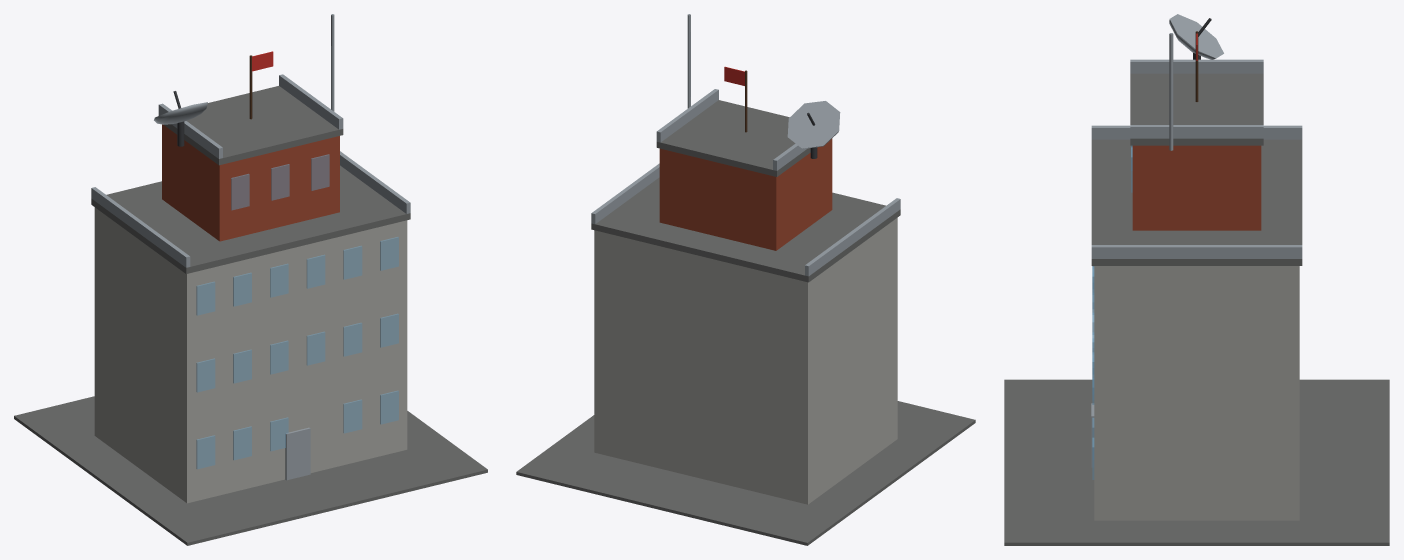
The model's file is bld_special_command_center_a06_lod1.glb.
The picture shows the model from 3 angles, left to right: view 1: azimuth 30°, elevation 25°; view 2: azimuth 150°, elevation 25°; view 3: azimuth 270°, elevation 25°; orthographic projection. The views are drawn at different scales.
Parts seen in each view (by area): view 1: body, antenna; view 2: body, antenna; view 3: body, antenna.
Boxes of the visible parts, left/top/right/bottom form: body: left=14, top=14, right=487, bottom=545; antenna: left=154, top=91, right=207, bottom=146; body: left=516, top=14, right=975, bottom=545; antenna: left=787, top=101, right=840, bottom=158; body: left=1004, top=31, right=1389, bottom=545; antenna: left=1169, top=14, right=1223, bottom=59.
Size of the model in its own units: 15 by 20.15 by 15.
